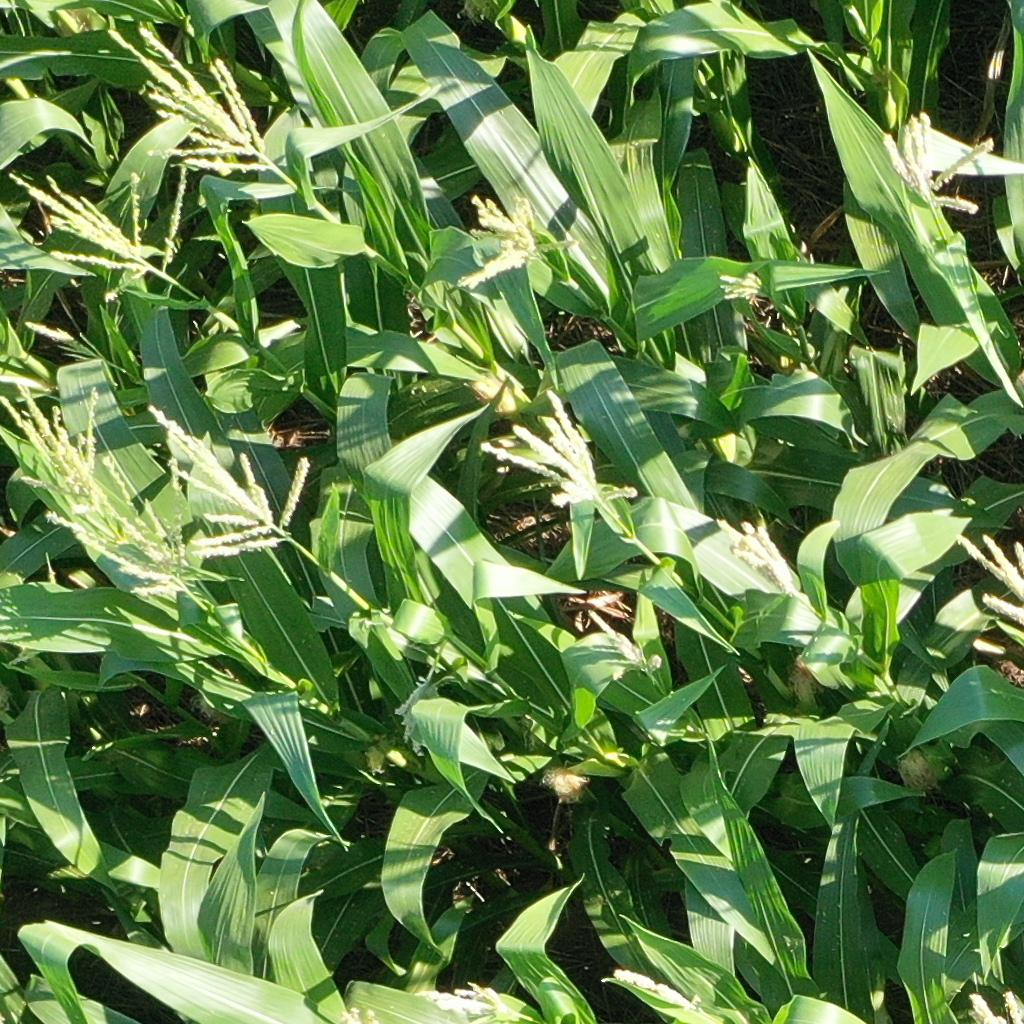Tassel: (102, 17, 286, 173), (143, 395, 317, 559), (5, 158, 200, 303), (44, 453, 200, 602), (467, 385, 639, 510), (1, 376, 110, 507), (454, 183, 578, 294), (880, 105, 998, 216), (719, 511, 812, 593), (952, 522, 1024, 623), (583, 602, 662, 674), (605, 963, 707, 1018), (414, 976, 520, 1024), (396, 666, 448, 759), (962, 984, 1024, 1024), (23, 317, 82, 347), (715, 266, 762, 302)
